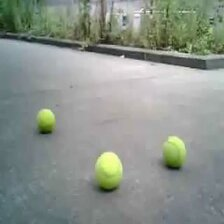tennis: (96, 151, 122, 189), (162, 137, 185, 166), (37, 109, 55, 132)
